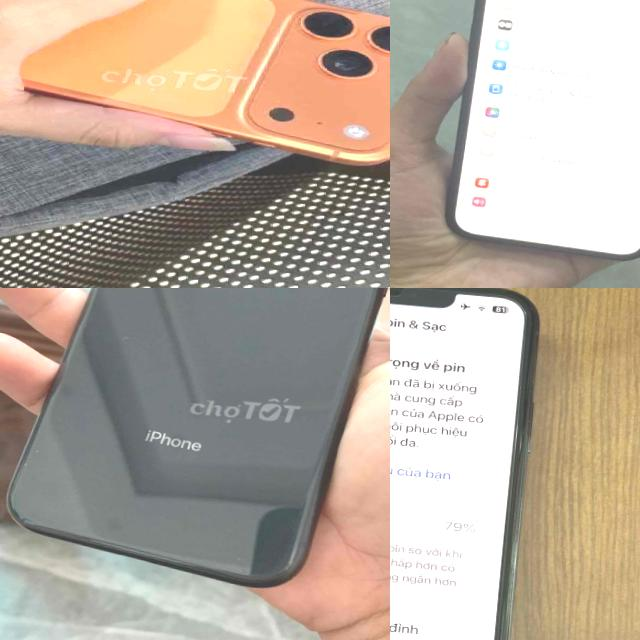scratch: (5, 437, 50, 471), (228, 550, 272, 578), (111, 330, 136, 346), (53, 413, 70, 428)
